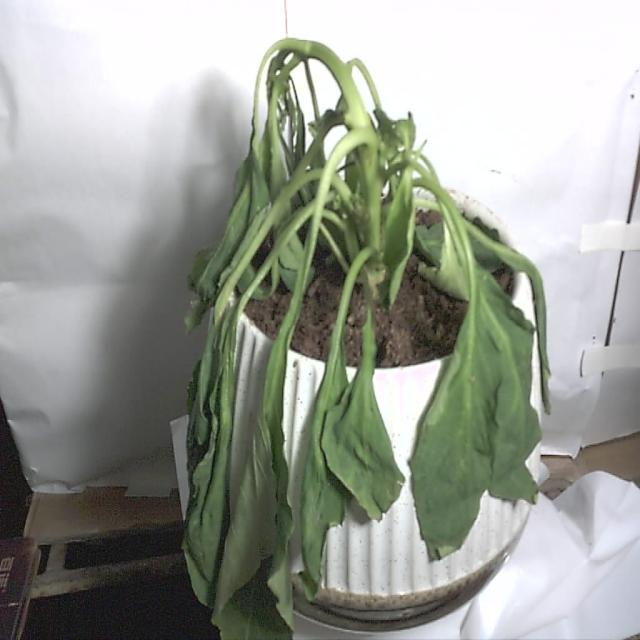Leaf: (214, 361, 295, 640), (412, 317, 497, 556)
